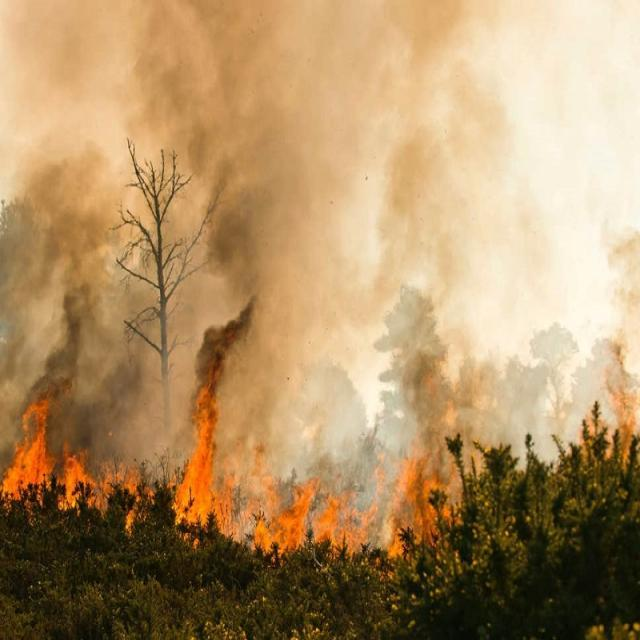Fire: (324, 452, 452, 556), (174, 328, 236, 536), (603, 228, 640, 459), (2, 379, 52, 512), (238, 483, 320, 557), (91, 459, 144, 519), (55, 443, 90, 508)
Smoke: (162, 0, 364, 323), (2, 2, 165, 380), (363, 0, 476, 452), (237, 328, 324, 482)
